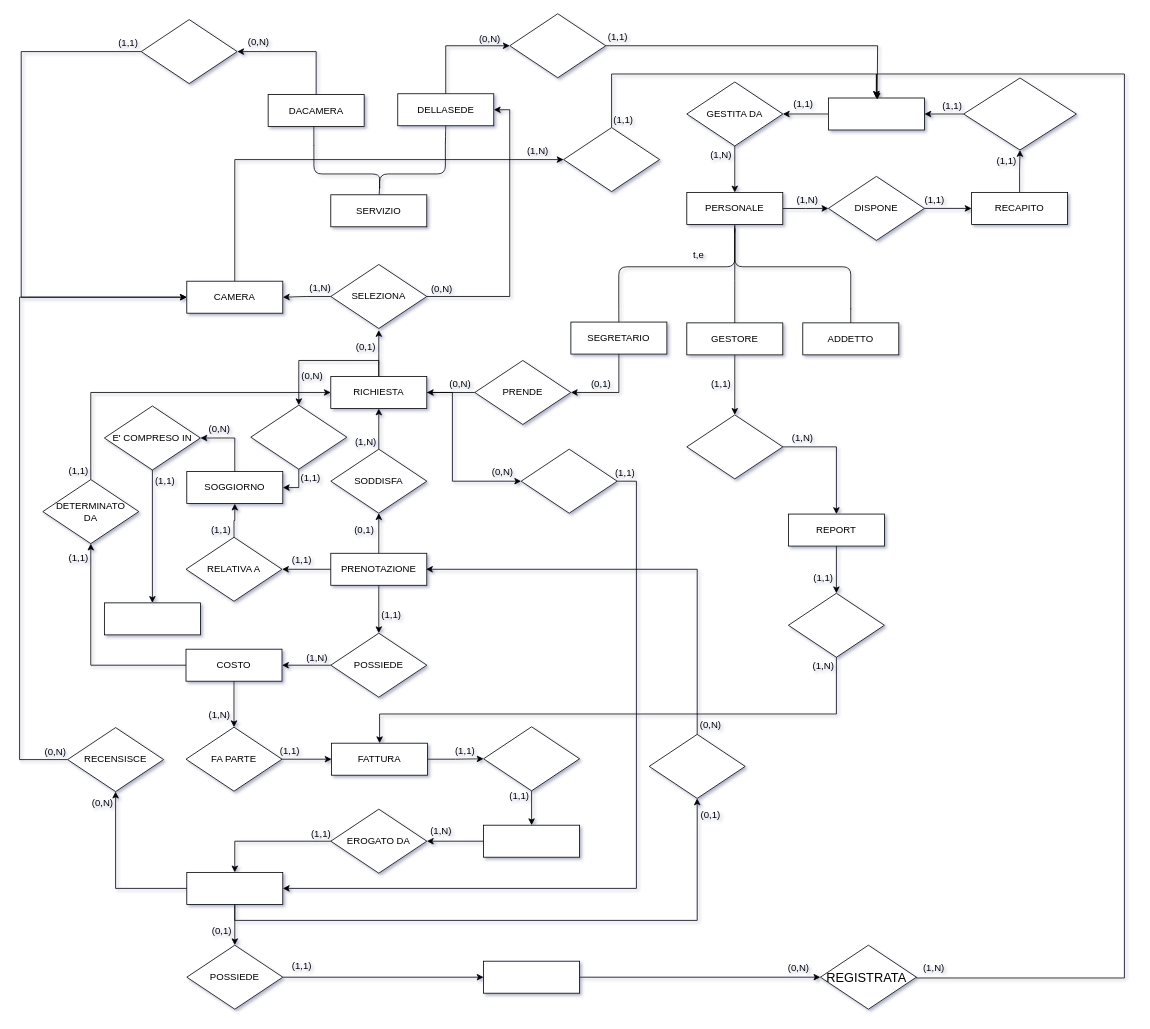
The diagram is 1150 pixels wide and 1029 high, and some of its shapes have lost their labels. The centre of each missing label's shape, as x and y in pixels:
APPARTIENE: pixel 568 480
CLIENTE: pixel 234 888
CONSIDERA: pixel 836 624
DI: pixel 298 436
EFFETTUA: pixel 696 766
GENERA: pixel 734 446
OFFERTO NELLA: pixel 557 45
PAGAMENTO: pixel 531 840
PRESENTE NELLA: pixel 188 51
SALDATA DA: pixel 531 758
SEDE: pixel 876 113
SI RIFERISCE ALLA: pixel 1019 113
SITUATA NELLA: pixel 611 159
STAGIONE: pixel 152 618
TESSERA: pixel 531 976
